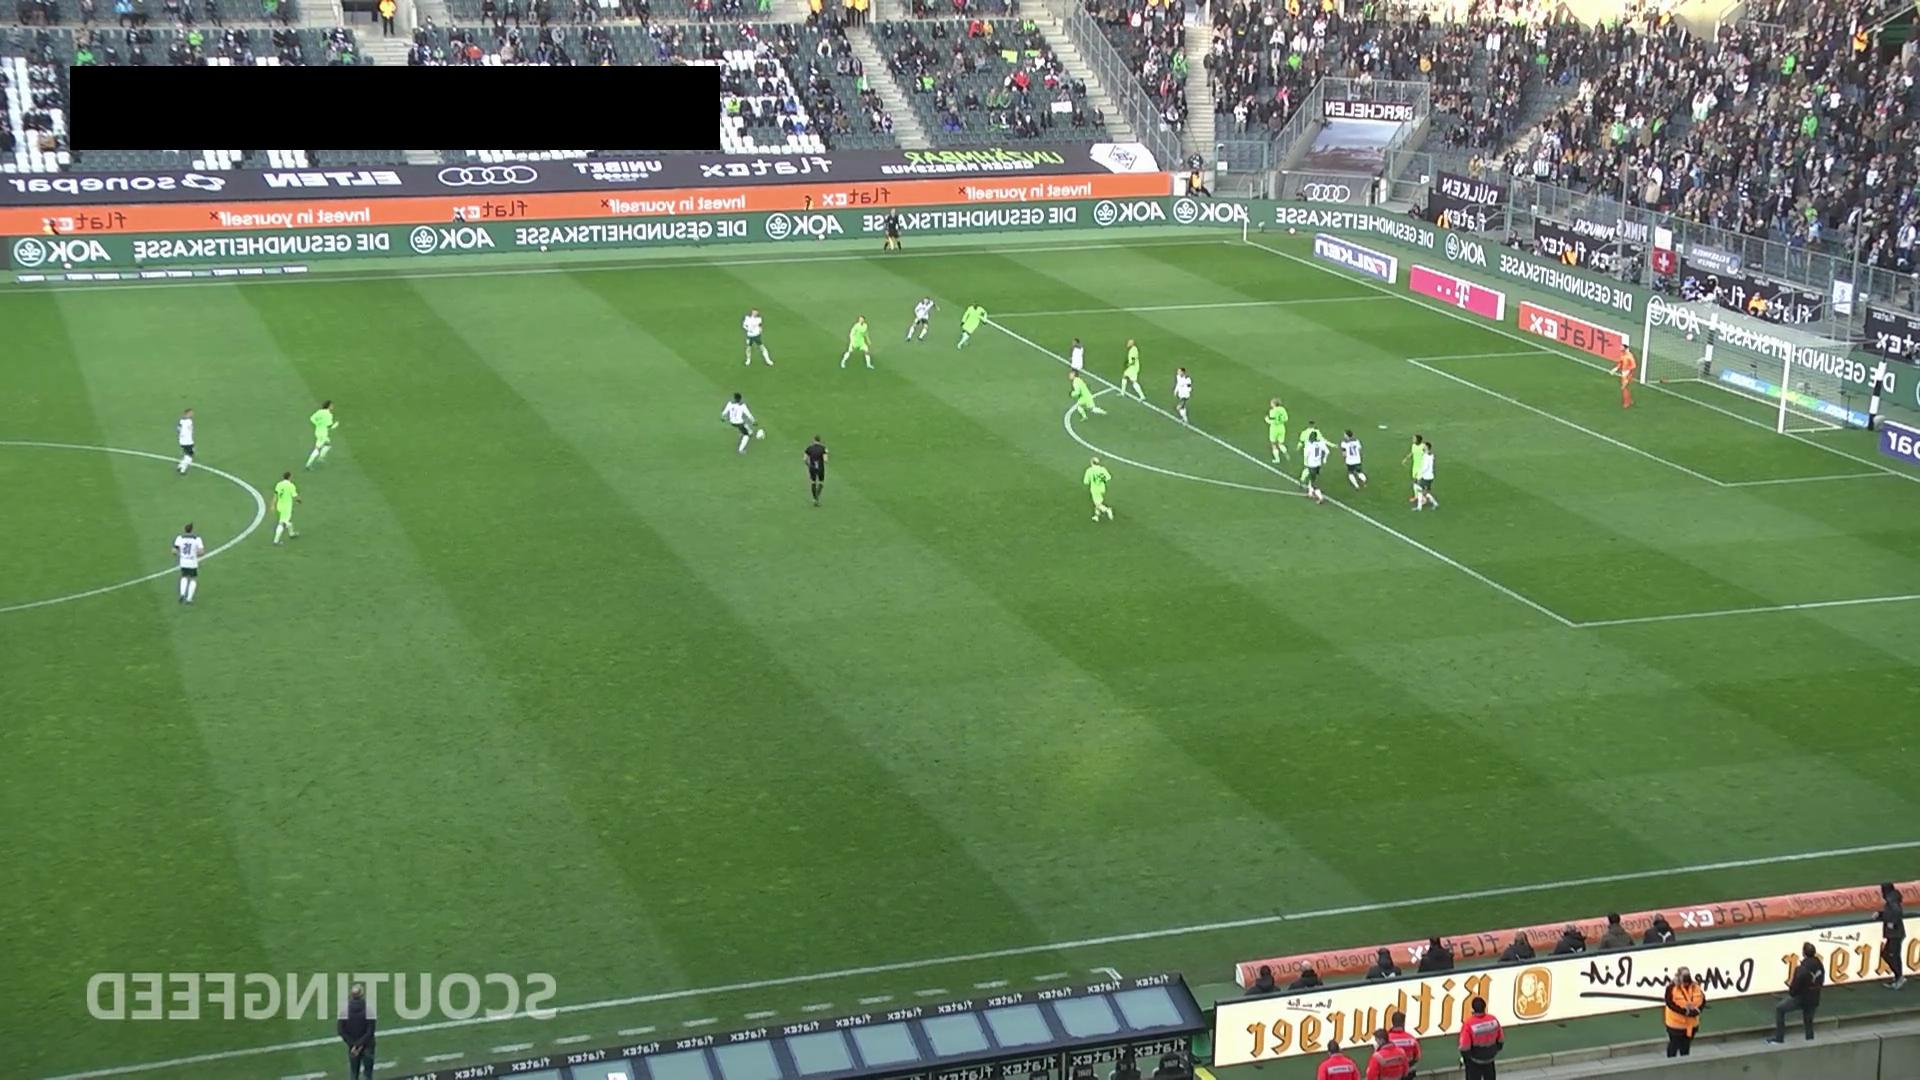ball: (755, 427, 766, 441)
goalkeeper: (1611, 341, 1637, 408)
player: (171, 520, 205, 604), (719, 392, 764, 455), (1404, 434, 1440, 512), (1294, 419, 1337, 484), (304, 399, 339, 471), (1300, 431, 1332, 504), (271, 470, 302, 545), (1067, 369, 1107, 424), (1082, 455, 1114, 522), (839, 314, 875, 370), (741, 308, 774, 367), (1338, 428, 1368, 491), (1264, 396, 1291, 465), (905, 295, 941, 343), (1120, 338, 1147, 401), (956, 301, 988, 350), (176, 407, 195, 475), (1173, 366, 1193, 425), (1068, 336, 1088, 393)
referee: (803, 433, 829, 506), (882, 209, 903, 252)
